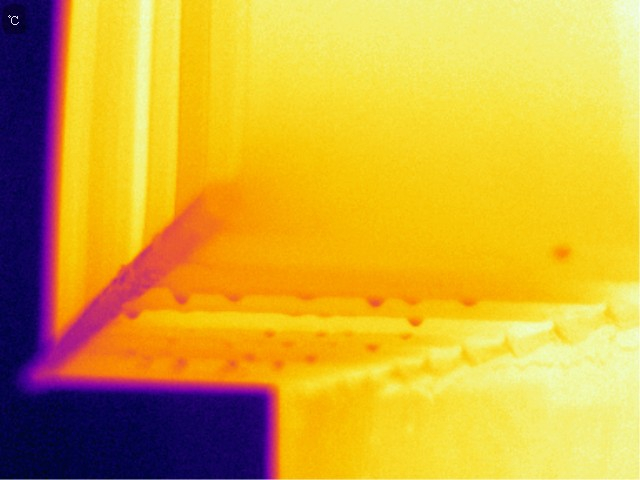Oil: (549, 239, 583, 274), (223, 354, 256, 369), (456, 296, 480, 310), (139, 351, 155, 372), (170, 290, 191, 305), (318, 306, 334, 324), (173, 353, 188, 371), (342, 326, 357, 344), (299, 292, 316, 306), (281, 334, 297, 348), (367, 340, 382, 353), (408, 318, 424, 330), (223, 294, 242, 304), (368, 296, 385, 307), (404, 297, 421, 308), (128, 306, 140, 321), (123, 343, 133, 359), (306, 353, 317, 364), (315, 332, 325, 342), (265, 332, 274, 341), (275, 361, 285, 369)
